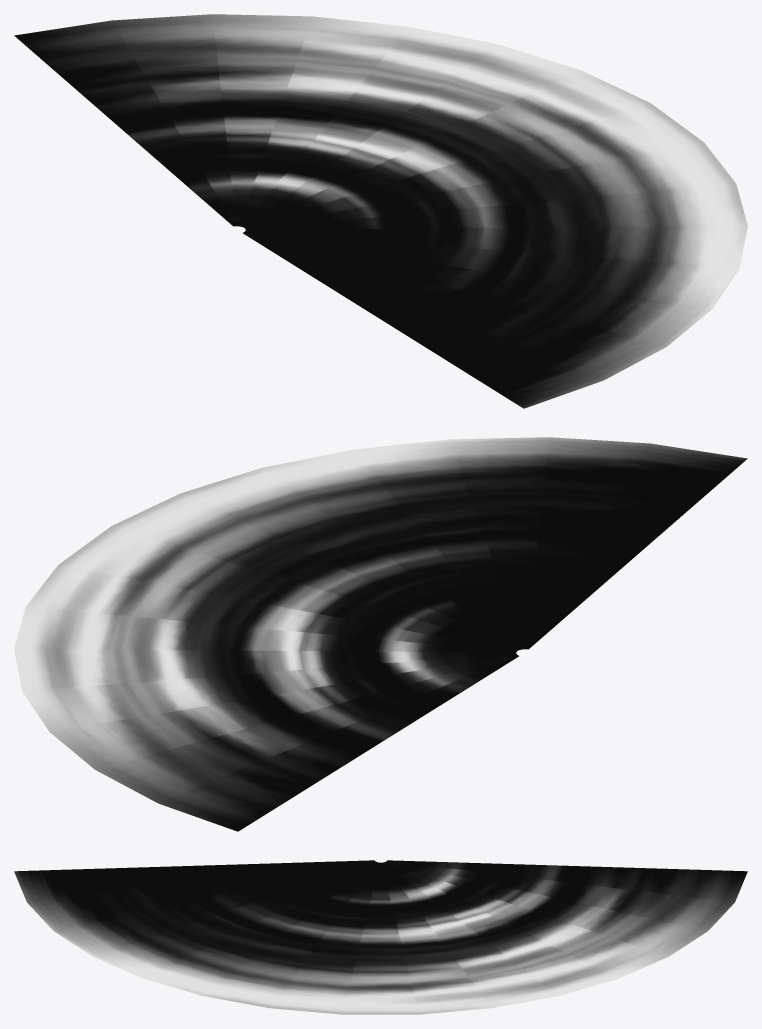
File: 0478_xiyiwang_ring01.glb
3 renders of one model, top to bottom at view 1: azimuth 30°, elevation 25°; view 2: azimuth 150°, elevation 25°; view 3: azimuth 270°, elevation 25°, orthographic. The views are drawn at different scales.
Size of the model in its own units: 1.09 by 4.49e-14 by 2.2.
1 material, 1 textured.
